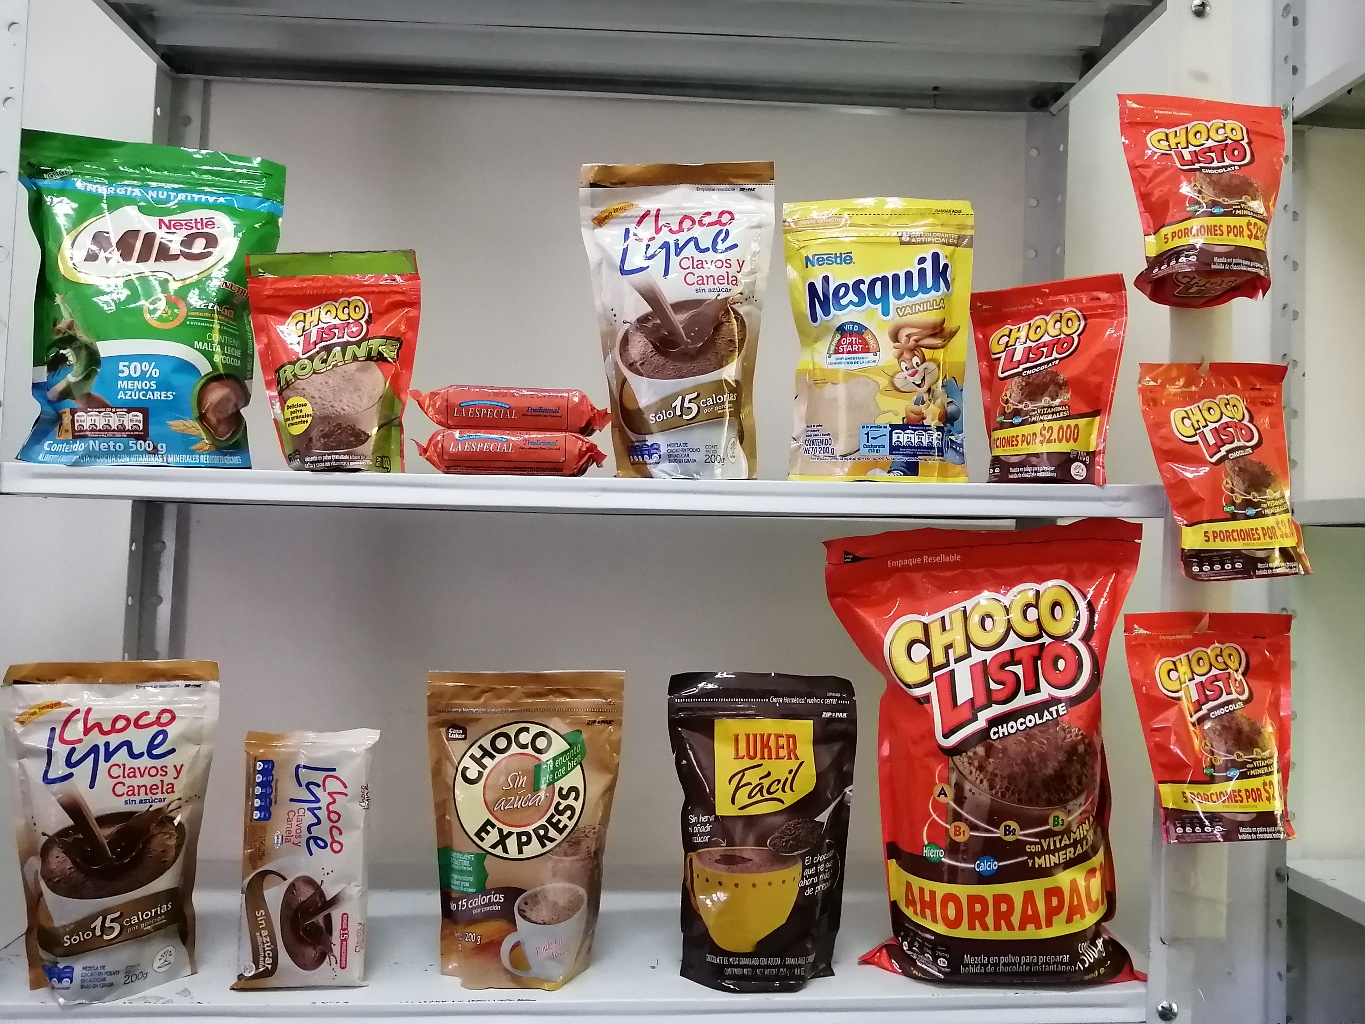COL0170102DYP10000: (238, 232, 418, 455)
COL0170103DYP1,500: (831, 529, 1144, 995)
COL0170103DYP10000: (1112, 75, 1282, 308)
COL0170205DYP50000: (14, 129, 278, 464)
COL0170306DYP20000: (786, 186, 975, 482)
